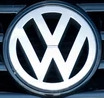Volkswagen: (1, 1, 103, 98)
